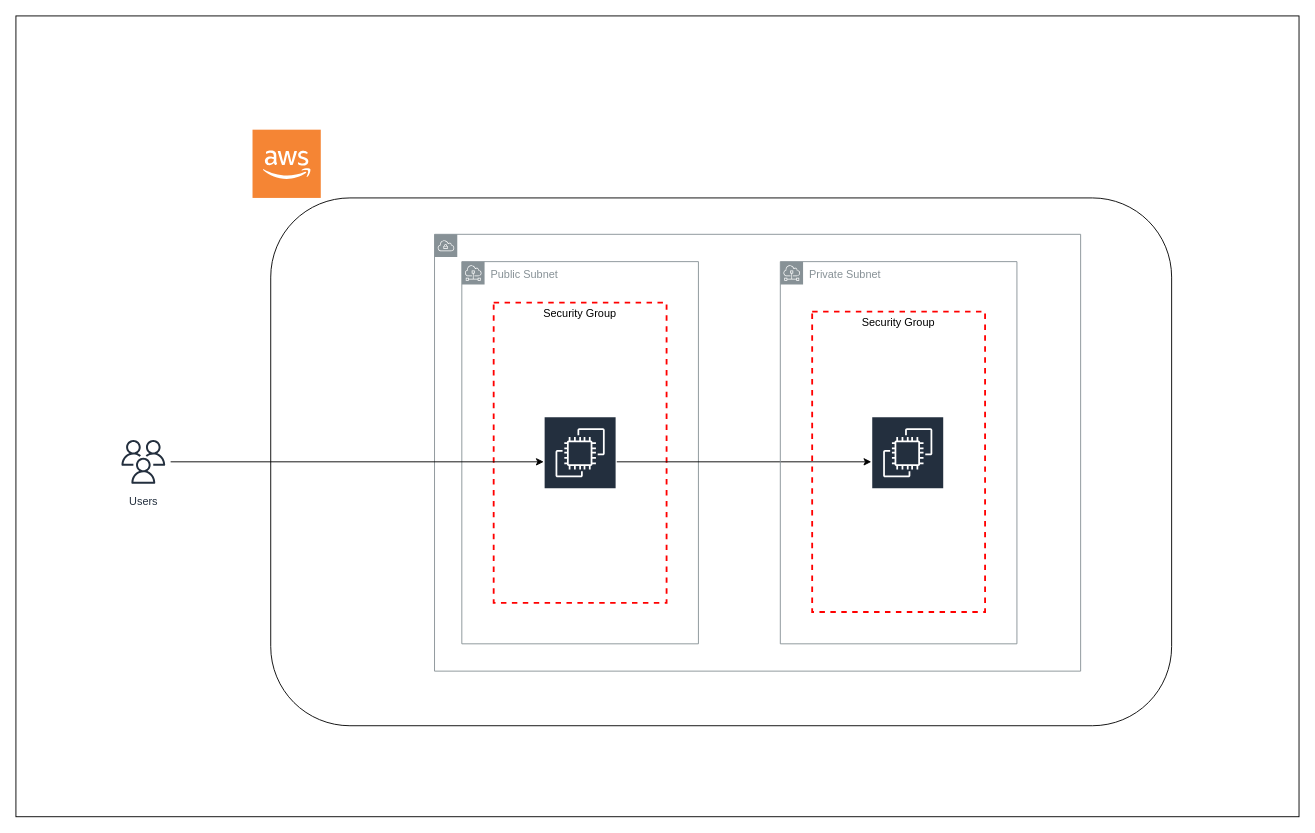
Image size: 1315x833. Some labels were removed from this diagram. Each missing label, with the box of its shape:
Amazon EC2: (870, 415, 944, 507)
Bastion host: (543, 415, 617, 507)
VPC: (434, 233, 1081, 671)
